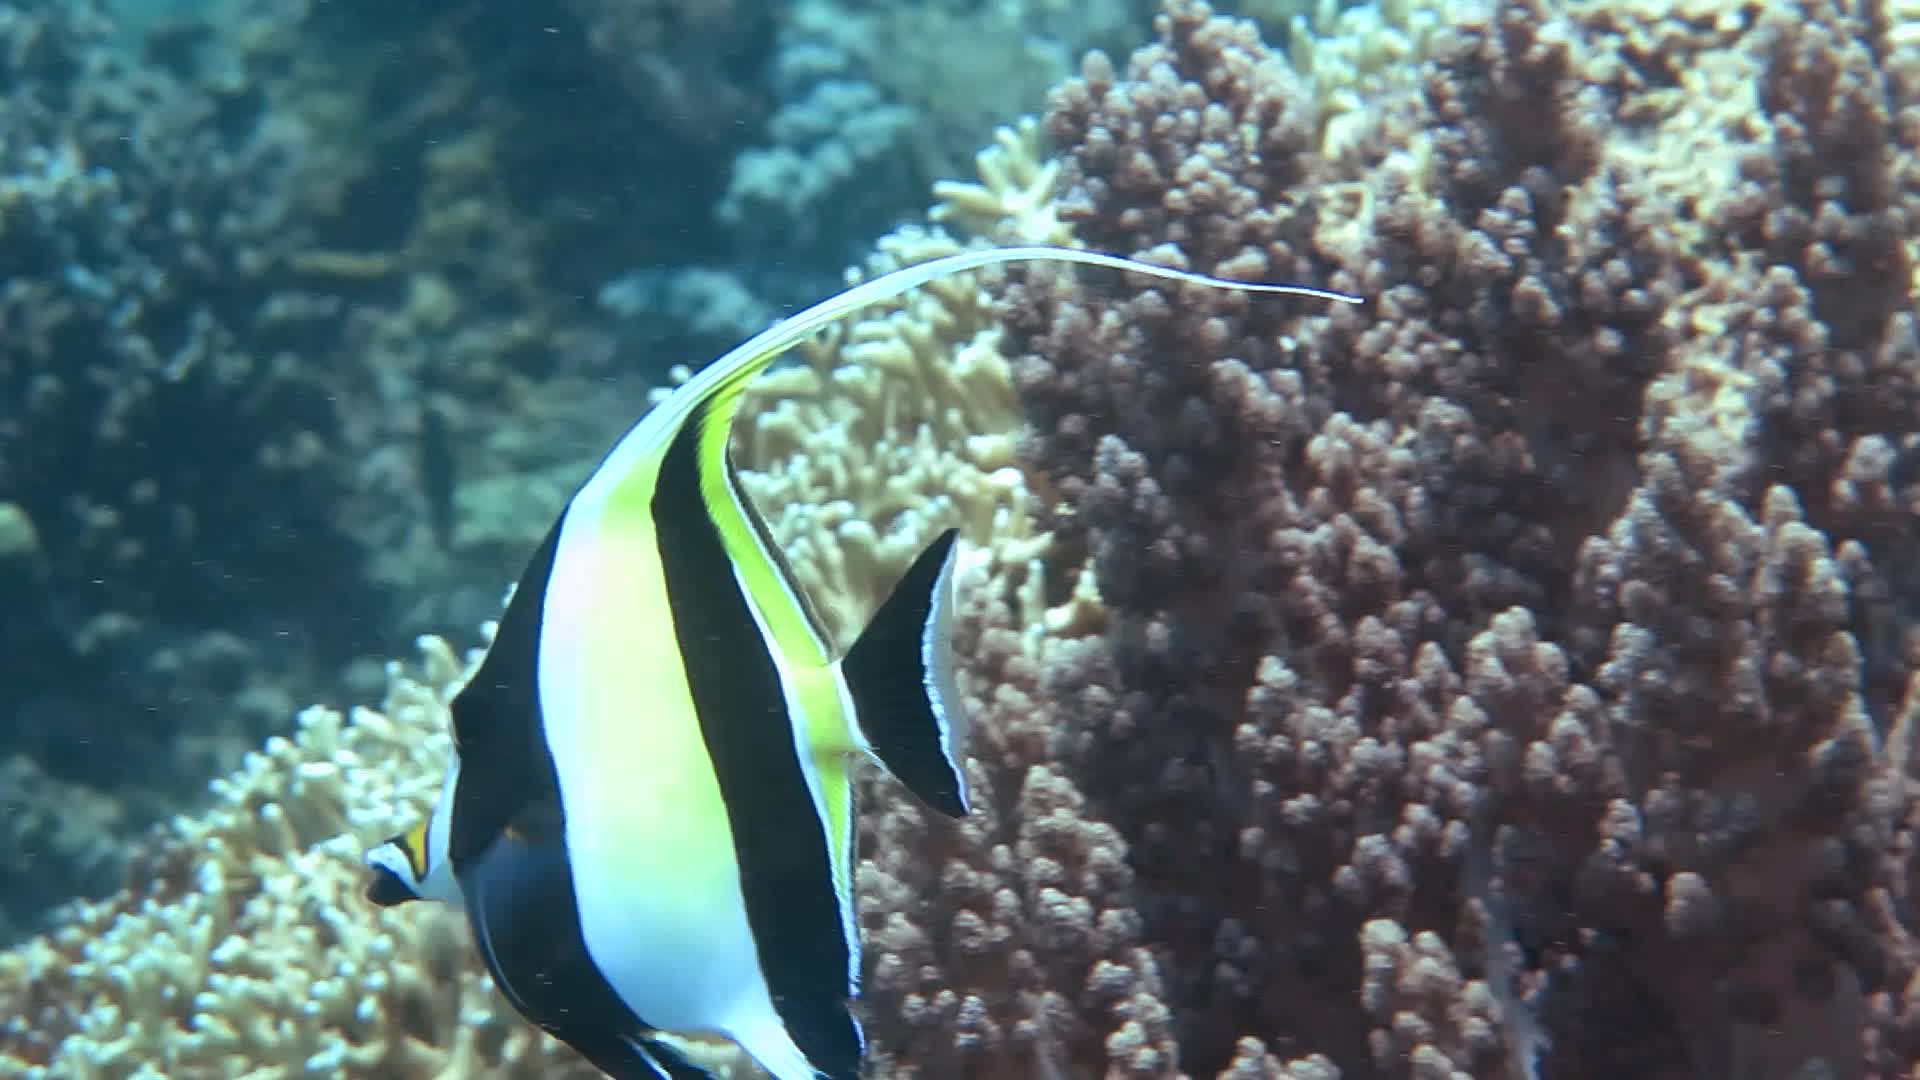Zanclus cornutus: (340, 251, 1129, 1080)
